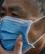with_mask: (1, 2, 45, 54)
